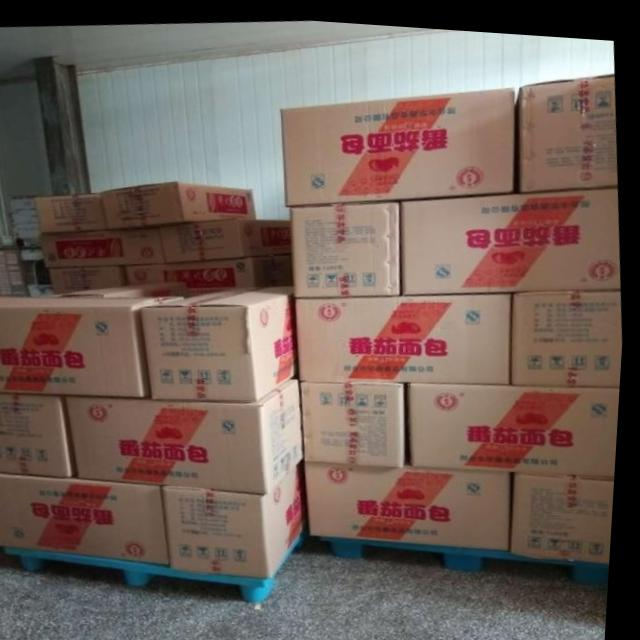box: (280, 80, 515, 201), (70, 372, 310, 490), (404, 178, 623, 289), (298, 286, 515, 378), (0, 294, 189, 395), (413, 377, 624, 467), (144, 281, 300, 398), (310, 455, 516, 542), (167, 457, 313, 573), (0, 472, 176, 562), (515, 66, 619, 184), (293, 195, 403, 292), (516, 282, 626, 378), (517, 464, 620, 554), (304, 376, 412, 461), (102, 180, 259, 229), (129, 250, 294, 294), (0, 393, 82, 476), (162, 215, 294, 261), (42, 224, 167, 265), (37, 192, 111, 232), (51, 264, 130, 295), (60, 279, 189, 295)
